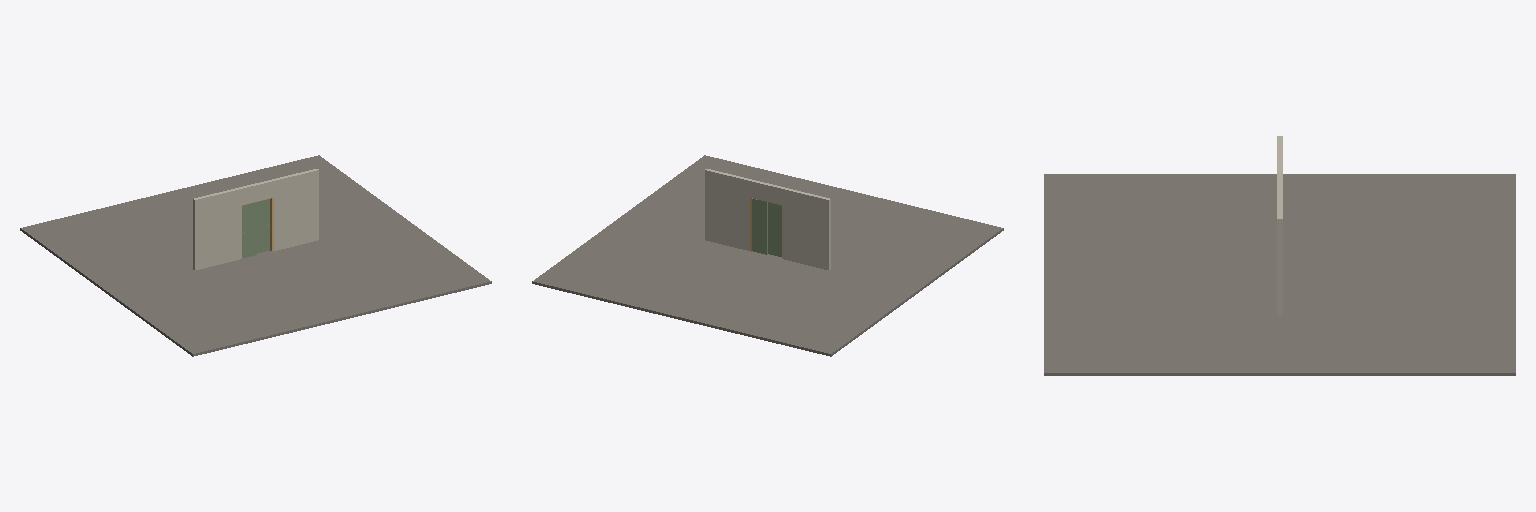
The robot description file, URDF, robot "db0377_sliding_bypass_simple":
<?xml version="1.0" ?>
<robot xmlns:doorbench="https://github.com/adamraudonis/DoorBench/schema/urdf-ext" name="db0377_sliding_bypass_simple">
  <link name="world_env">
    <visual name="floor_vis">
      <origin xyz="0 0 -0.05" rpy="0 0 0"/>
      <geometry>
        <box size="12 12 0.1"/>
      </geometry>
      <material name="mat_floor"/>
    </visual>
    <collision name="floor_col">
      <origin xyz="0 0 -0.05" rpy="0 0 0"/>
      <geometry>
        <box size="12 12 0.1"/>
      </geometry>
    </collision>
    <visual name="wall_left_vis">
      <origin xyz="-1.5595 0 1.35" rpy="0 0 0"/>
      <geometry>
        <box size="1.881 0.145 2.7"/>
      </geometry>
      <material name="mat_wall"/>
    </visual>
    <collision name="wall_left_col">
      <origin xyz="-1.5595 0 1.35" rpy="0 0 0"/>
      <geometry>
        <box size="1.881 0.145 2.7"/>
      </geometry>
    </collision>
    <visual name="wall_right_vis">
      <origin xyz="1.5895 0 1.35" rpy="0 0 0"/>
      <geometry>
        <box size="1.821 0.145 2.7"/>
      </geometry>
      <material name="mat_wall"/>
    </visual>
    <collision name="wall_right_col">
      <origin xyz="1.5895 0 1.35" rpy="0 0 0"/>
      <geometry>
        <box size="1.821 0.145 2.7"/>
      </geometry>
    </collision>
    <visual name="wall_header_vis">
      <origin xyz="0.03 0 2.3855" rpy="0 0 0"/>
      <geometry>
        <box size="1.298 0.145 0.629"/>
      </geometry>
      <material name="mat_wall"/>
    </visual>
    <collision name="wall_header_col">
      <origin xyz="0.03 0 2.3855" rpy="0 0 0"/>
      <geometry>
        <box size="1.298 0.145 0.629"/>
      </geometry>
    </collision>
    <visual name="jamb_l_vis">
      <origin xyz="-0.6095 0 1.026" rpy="0 0 0"/>
      <geometry>
        <box size="0.019 0.145 2.052"/>
      </geometry>
      <material name="mat_frame"/>
    </visual>
    <collision name="jamb_l_col">
      <origin xyz="-0.6095 0 1.026" rpy="0 0 0"/>
      <geometry>
        <box size="0.019 0.145 2.052"/>
      </geometry>
    </collision>
    <visual name="jamb_head_vis">
      <origin xyz="0 0 2.0615" rpy="0 0 0"/>
      <geometry>
        <box size="1.238 0.145 0.019"/>
      </geometry>
      <material name="mat_frame"/>
    </visual>
    <collision name="jamb_head_col">
      <origin xyz="0 0 2.0615" rpy="0 0 0"/>
      <geometry>
        <box size="1.238 0.145 0.019"/>
      </geometry>
    </collision>
    <visual name="leaf_0_track_header_vis">
      <origin xyz="-0.002 -0.0425 2.111" rpy="0 0 0"/>
      <geometry>
        <box size="1.29 0.05 0.08"/>
      </geometry>
      <material name="mat_track"/>
    </visual>
    <collision name="leaf_0_track_header_col">
      <origin xyz="-0.002 -0.0425 2.111" rpy="0 0 0"/>
      <geometry>
        <box size="1.29 0.05 0.08"/>
      </geometry>
    </collision>
    <visual name="leaf_1_track_header_vis">
      <origin xyz="0.002 0.0425 2.111" rpy="0 0 0"/>
      <geometry>
        <box size="1.29 0.05 0.08"/>
      </geometry>
      <material name="mat_track"/>
    </visual>
    <collision name="leaf_1_track_header_col">
      <origin xyz="0.002 0.0425 2.111" rpy="0 0 0"/>
      <geometry>
        <box size="1.29 0.05 0.08"/>
      </geometry>
    </collision>
    <visual name="jamb_latch_0_vis">
      <origin xyz="0.6395 0 1.026" rpy="0 0 0"/>
      <geometry>
        <box size="0.079 0.145 2.052"/>
      </geometry>
      <material name="mat_frame"/>
    </visual>
    <collision name="jamb_latch_0_col">
      <origin xyz="0.6395 0 1.026" rpy="0 0 0"/>
      <geometry>
        <box size="0.079 0.145 2.052"/>
      </geometry>
    </collision>
  </link>
  <link name="leaf_0">
    <inertial>
      <origin xyz="-0.000068 -0.000006 1.027991" rpy="0 0 0"/>
      <mass value="9.569304"/>
      <inertia ixx="3.292594583" ixy="-0.00001173" ixz="-0.000018247" iyy="3.588392068" iyz="-0.000001528" izz="0.297752564"/>
    </inertial>
    <visual name="leaf_0_slab_vis">
      <origin xyz="0 0 1.028" rpy="0 0 0"/>
      <geometry>
        <box size="0.61 0.035 2.032"/>
      </geometry>
      <material name="mat_leaf_0"/>
    </visual>
    <collision name="leaf_0_slab_col">
      <origin xyz="0 0 1.028" rpy="0 0 0"/>
      <geometry>
        <box size="0.61 0.035 2.032"/>
      </geometry>
    </collision>
    <visual name="leaf_0_pull_n_vis">
      <origin xyz="-0.215 -0.018 1" rpy="0 0 0"/>
      <geometry>
        <box size="0.055 0.001 0.055"/>
      </geometry>
      <material name="mat_op_nickel_satin"/>
    </visual>
  </link>
  <link name="leaf_1">
    <inertial>
      <origin xyz="0.000068 -0.000006 1.027991" rpy="0 0 0"/>
      <mass value="9.569304"/>
      <inertia ixx="3.292594583" ixy="0.00001173" ixz="0.000018247" iyy="3.588392068" iyz="-0.000001528" izz="0.297752564"/>
    </inertial>
    <visual name="leaf_1_slab_vis">
      <origin xyz="0 0 1.028" rpy="0 0 0"/>
      <geometry>
        <box size="0.61 0.035 2.032"/>
      </geometry>
      <material name="mat_leaf_1"/>
    </visual>
    <collision name="leaf_1_slab_col">
      <origin xyz="0 0 1.028" rpy="0 0 0"/>
      <geometry>
        <box size="0.61 0.035 2.032"/>
      </geometry>
    </collision>
    <visual name="leaf_1_pull_n_vis">
      <origin xyz="0.215 -0.018 1" rpy="0 0 0"/>
      <geometry>
        <box size="0.055 0.001 0.055"/>
      </geometry>
      <material name="mat_op_nickel_satin"/>
    </visual>
  </link>
  <joint name="leaf_0_slide" type="prismatic">
    <origin xyz="-0.292 -0.0425 0" rpy="0 0 0"/>
    <parent link="world_env"/>
    <child link="leaf_0"/>
    <axis xyz="1 0 0"/>
    <limit lower="0" upper="0.564" effort="5000" velocity="10"/>
    <dynamics damping="2.479715" friction="7.338863"/>
  </joint>
  <joint name="leaf_1_slide" type="prismatic">
    <origin xyz="0.292 0.0425 0" rpy="0 0 0"/>
    <parent link="world_env"/>
    <child link="leaf_1"/>
    <axis xyz="-1 0 0"/>
    <limit lower="0" upper="0.564" effort="5000" velocity="10"/>
    <dynamics damping="2.479715" friction="7.338863"/>
  </joint>
  <material name="mat_floor">
    <color rgba="0.55 0.53 0.5 1"/>
  </material>
  <material name="mat_frame">
    <color rgba="0.82 0.7 0.5 1"/>
  </material>
  <material name="mat_leaf_0">
    <color rgba="0.55 0.62 0.5 1"/>
  </material>
  <material name="mat_leaf_1">
    <color rgba="0.55 0.62 0.5 1"/>
  </material>
  <material name="mat_op_nickel_satin">
    <color rgba="0.72 0.7 0.66 1"/>
  </material>
  <material name="mat_track">
    <color rgba="0.8 0.81 0.83 1"/>
  </material>
  <material name="mat_wall">
    <color rgba="0.78 0.76 0.7 1"/>
  </material>
</robot>

--- Render facts (derived) ---
Views: 3 orthographic renders of the robot side by side, from view 1: azimuth 30°, elevation 25°; view 2: azimuth 150°, elevation 25°; view 3: azimuth 270°, elevation 25°.
Model db0377_sliding_bypass_simple with 3 links and 2 joints (2 prismatic), rooted at world_env, posed all joints at 0.
Links seen in each view (by area): view 1: world_env, leaf_0, leaf_1; view 2: world_env, leaf_1, leaf_0; view 3: world_env.
Link boxes in pixels (x1,y1,x2,y2): world_env: (20,155,491,356); leaf_0: (242,202,256,258); leaf_1: (257,199,269,253); world_env: (532,155,1003,356); leaf_1: (752,198,767,254); leaf_0: (768,202,781,256); world_env: (1044,136,1515,375).
Size in the robot's own frame: 12 by 12 by 2.8 metres.
Geometry: primitives only (box / cylinder / sphere), no mesh files.
